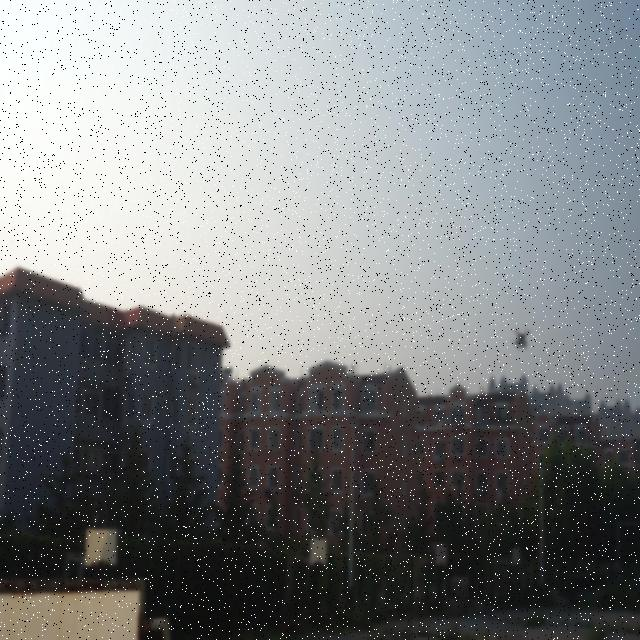UAV: (511, 328, 532, 351)
